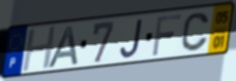7: (91, 20, 116, 64)
A: (46, 24, 80, 70)
C: (180, 11, 211, 54)
F: (151, 13, 183, 58)
H: (20, 24, 58, 74)
J: (119, 17, 145, 60)
